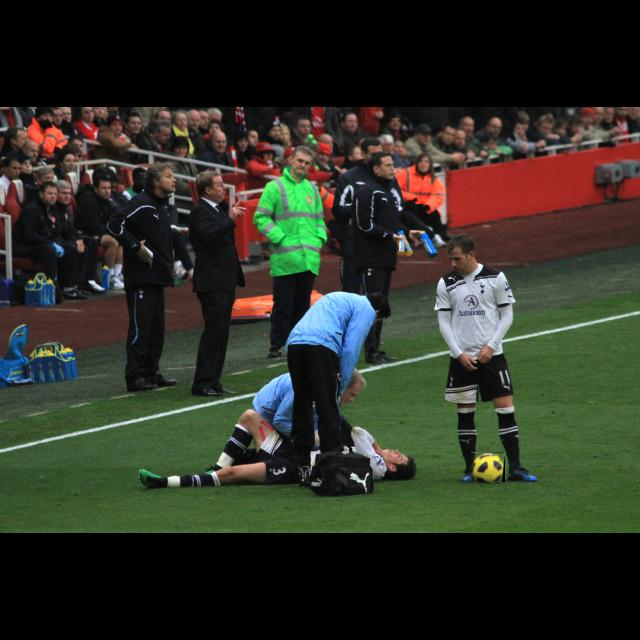Football: (471, 452, 505, 482)
